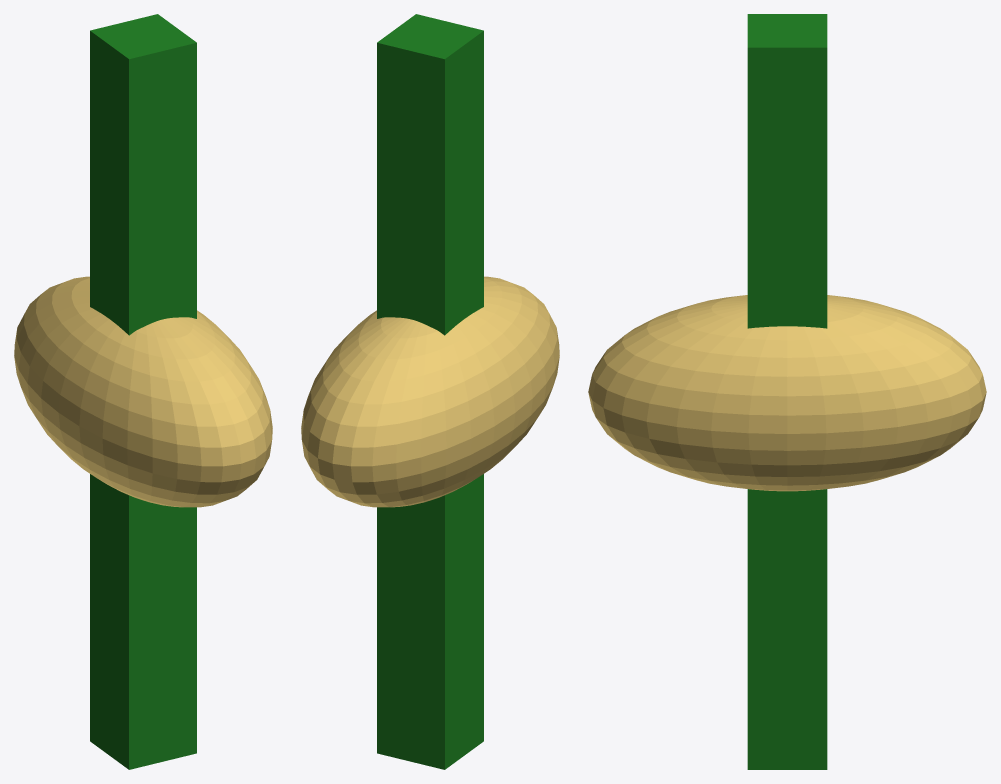
File: slider.gltf
The picture shows the model from 3 angles, left to right: view 1: azimuth 30°, elevation 25°; view 2: azimuth 150°, elevation 25°; view 3: azimuth 270°, elevation 25°; orthographic projection.
Parts seen in each view (by area): view 1: Path, slider; view 2: Path, slider; view 3: slider, Path.
Part boxes in pixels (box(x1,y1,x2,y2)): Path: box(90, 14, 196, 769); slider: box(14, 276, 272, 507); Path: box(377, 14, 483, 769); slider: box(301, 276, 559, 507); slider: box(588, 295, 986, 491); Path: box(747, 14, 827, 769).
Size of the model in its own units: 0.5 by 2 by 1.
